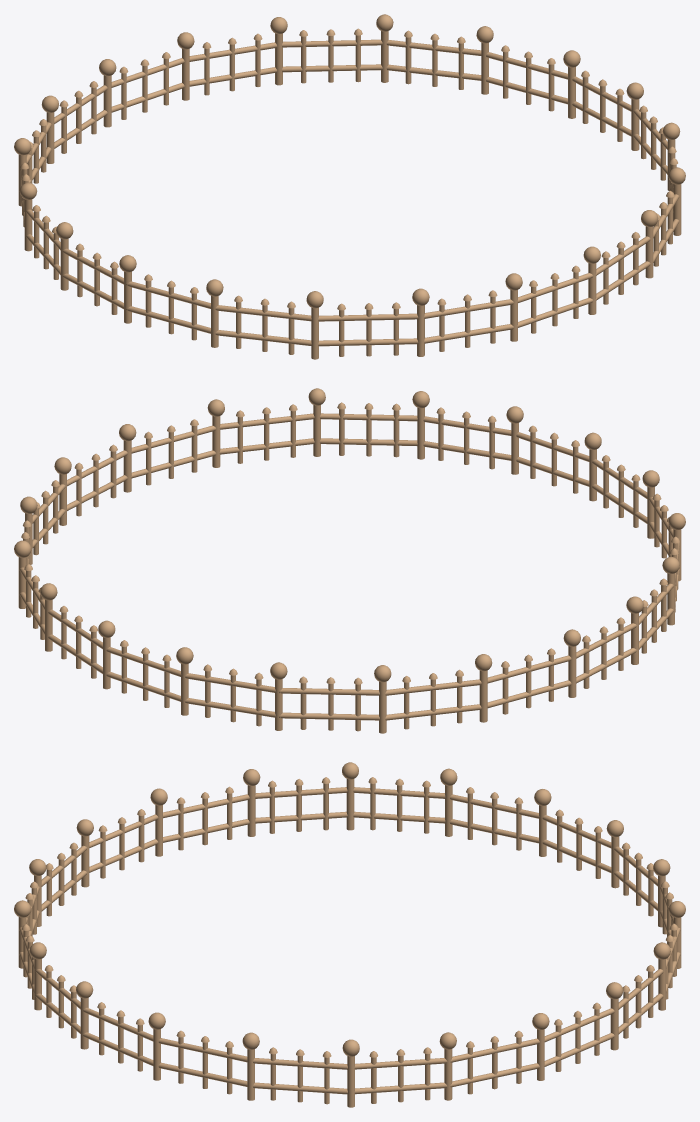
Rendered from FenceBasic.fbx.
The picture shows the model from 3 angles, top to bottom: view 1: azimuth 30°, elevation 25°; view 2: azimuth 150°, elevation 25°; view 3: azimuth 270°, elevation 25°; orthographic projection.
Parts seen in each view (by area): view 1: Basic; view 2: Basic; view 3: Basic.
Boxes of the visible parts, x1,y1,x2,y2 form: Basic: (14,14,685,359); Basic: (14,388,685,733); Basic: (14,762,685,1107).
Size of the model in its own units: 2552 by 275 by 2548.
1 material, 1 textured.
